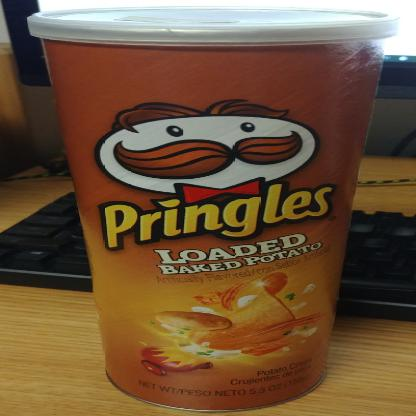potatochip: (25, 6, 386, 415)
